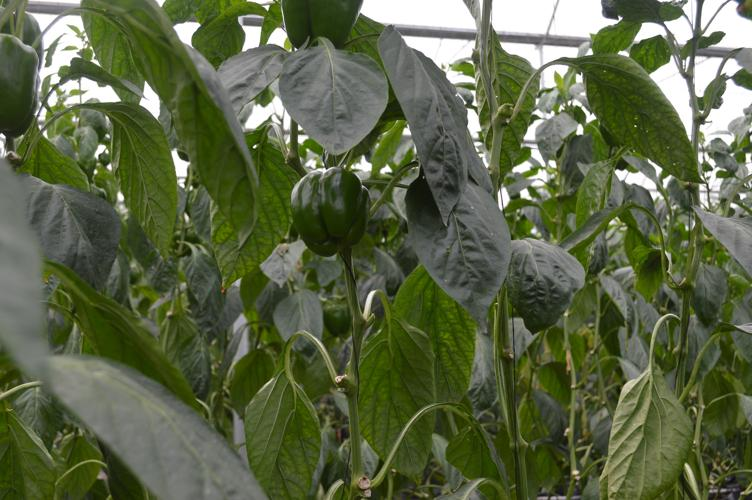BellPepper: (290, 170, 369, 251), (1, 35, 41, 135), (284, 3, 354, 51)
